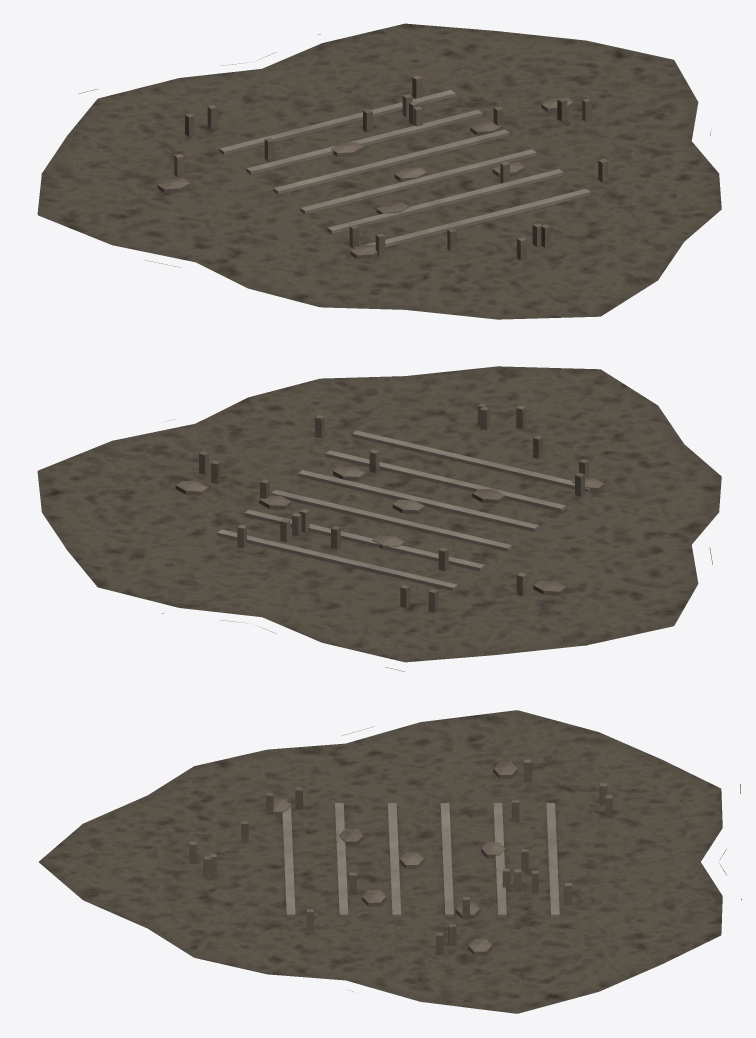
File: burnt-field-overlay.glb
3 views of the same model, one above another, from view 1: azimuth 30°, elevation 25°; view 2: azimuth 150°, elevation 25°; view 3: azimuth 270°, elevation 25° (orthographic). The views are drawn at different scales.
Visible parts, largest first — view 1: LOD0; view 2: LOD0; view 3: LOD0.
Part boxes in pixels (x1,y1,x2,y2): LOD0: (37,23,721,319); LOD0: (37,366,721,671); LOD0: (39,710,741,1013).
Size of what is drawn, in the model's own units: 0.4342 by 0.0136 by 0.4133.
2 materials, 2 textured.
